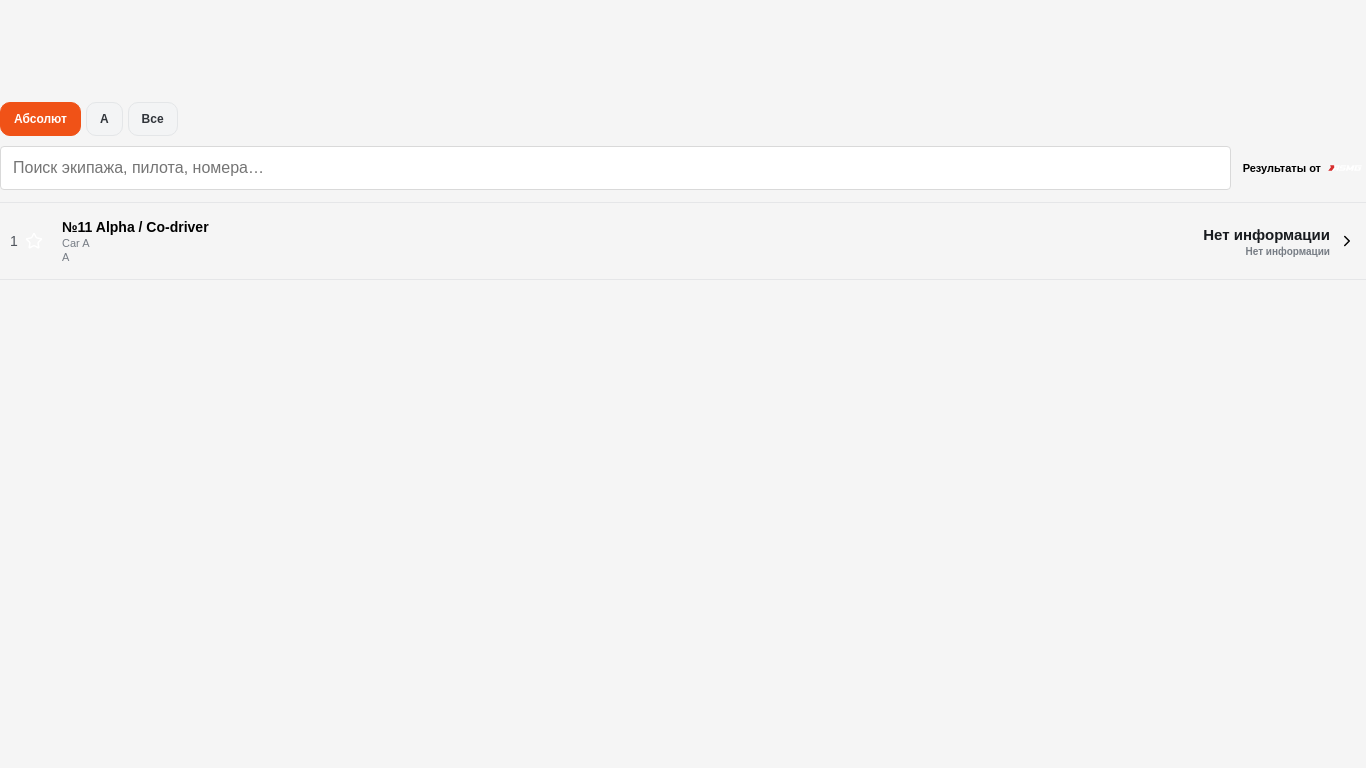
Test: inline results screen › replaces invalid crew times with an information label
Click the button with aria-label "Открыть результаты экипажа Alpha" at (152, 227), box left=58, top=203, right=1365, bottom=279
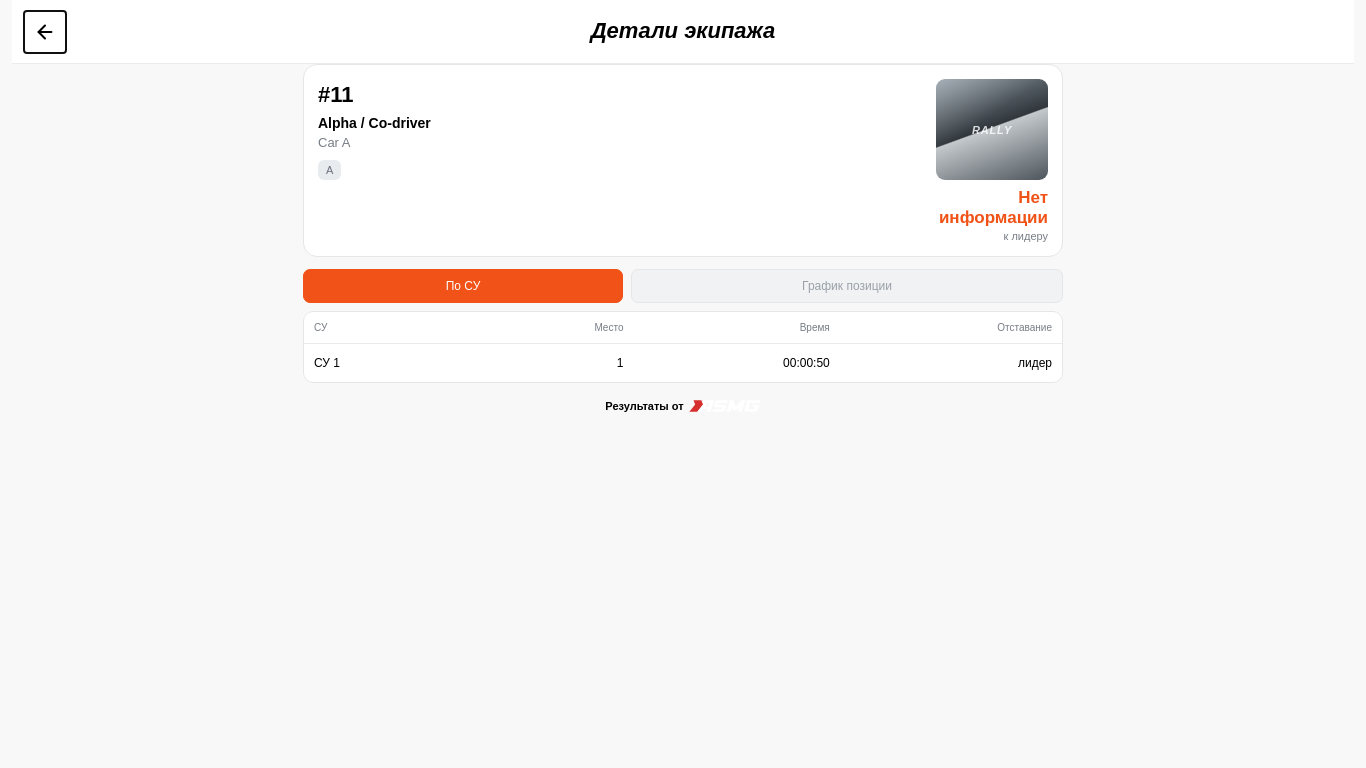
Now the text "Нет информации" is shown, box left=936, top=188, right=1048, bottom=228
